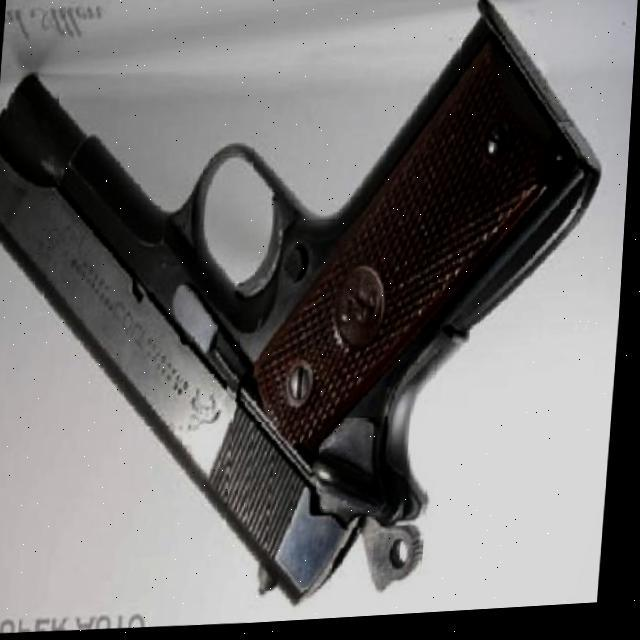gun: (0, 0, 614, 634)
